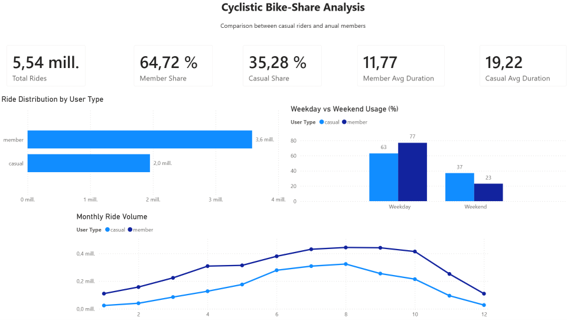

Layout of this report page (visuals, bound fields, positions):
{"tool":"powerbi","page":{"name":"Executive Summary","canvas":[1280,720],"ordinal":0},"visuals":[{"type":"textbox","box":[287.9,0,727.7,89],"z":0},{"type":"cardVisual","title":"Total rides","fields":{"Data":["duration_by_user_type.Total Rides"]},"box":[0,89,209.4,127],"z":1000},{"type":"cardVisual","title":"Total rides","fields":{"Data":["duration_by_user_type.Member Share"]},"box":[282,89,209.4,127],"z":2000},{"type":"cardVisual","title":"Total rides","fields":{"Data":["duration_by_user_type.Casual Share"]},"box":[523.5,89,209.4,127],"z":3000},{"type":"cardVisual","title":"Total rides","fields":{"Data":["duration_by_user_type.Member Avg Duration"]},"box":[776.8,89,228.4,127],"z":4000},{"type":"cardVisual","title":"Total rides","fields":{"Data":["duration_by_user_type.Casual Avg Duration"]},"box":[1047.7,89,227.1,127],"z":5000},{"type":"clusteredBarChart","title":"Ride Distribution by User Type","fields":{"Category":["rides_by_user_type.member_casual"],"Y":["Sum(rides_by_user_type.total_rides)"]},"box":[0.7,216,639.3,250],"z":6000},{"type":"clusteredColumnChart","title":"Weekday vs Weekend Usage (%)","fields":{"Category":["rides_by_day_type.day_type"],"Y":["Sum(rides_by_day_type.percentage)"],"Series":["rides_by_day_type.member_casual"]},"box":[641.3,237.5,638.7,244.1],"z":7000},{"type":"lineChart","title":"Monthly Ride Volume","fields":{"Category":["rides_by_month.month"],"Y":["Sum(rides_by_month.total_rides)"],"Series":["rides_by_month.member_casual"]},"box":[166.9,475.7,922.7,244.1],"z":8000}]}

Visuals, with their boxes in screenshot pixels (x1, y1, x2, y2), scaled from the page's 1280x720 canvas onto the 567x320 screenshot:
textbox: region(128, 0, 450, 40)
"Total rides" cardVisual: region(0, 40, 93, 96)
"Total rides" cardVisual: region(125, 40, 218, 96)
"Total rides" cardVisual: region(232, 40, 325, 96)
"Total rides" cardVisual: region(344, 40, 445, 96)
"Total rides" cardVisual: region(464, 40, 565, 96)
"Ride Distribution by User Type" clusteredBarChart: region(0, 96, 284, 207)
"Weekday vs Weekend Usage (%)" clusteredColumnChart: region(284, 106, 566, 214)
"Monthly Ride Volume" lineChart: region(74, 211, 483, 319)
